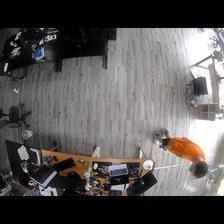normal: (154, 127, 207, 178)
